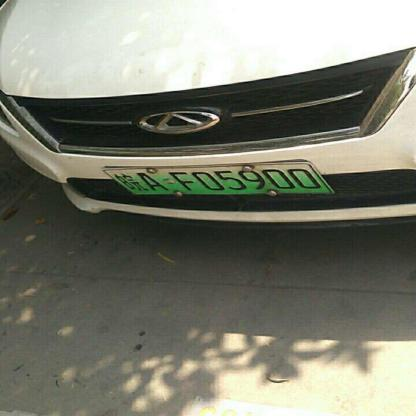lp: (103, 163, 331, 195)
